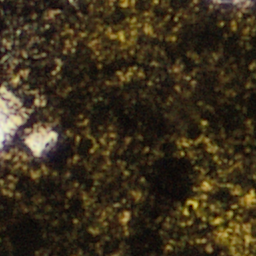cement_matrix: (0, 0, 255, 255), (24, 126, 56, 155)
gravel_crushed_stones: (0, 88, 24, 152), (25, 127, 55, 154)
